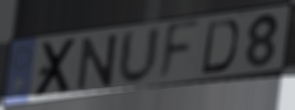8: (244, 12, 280, 69)
D: (199, 18, 240, 77)
F: (156, 17, 202, 86)
N: (75, 32, 120, 94)
U: (116, 24, 163, 87)
X: (32, 36, 80, 100)
